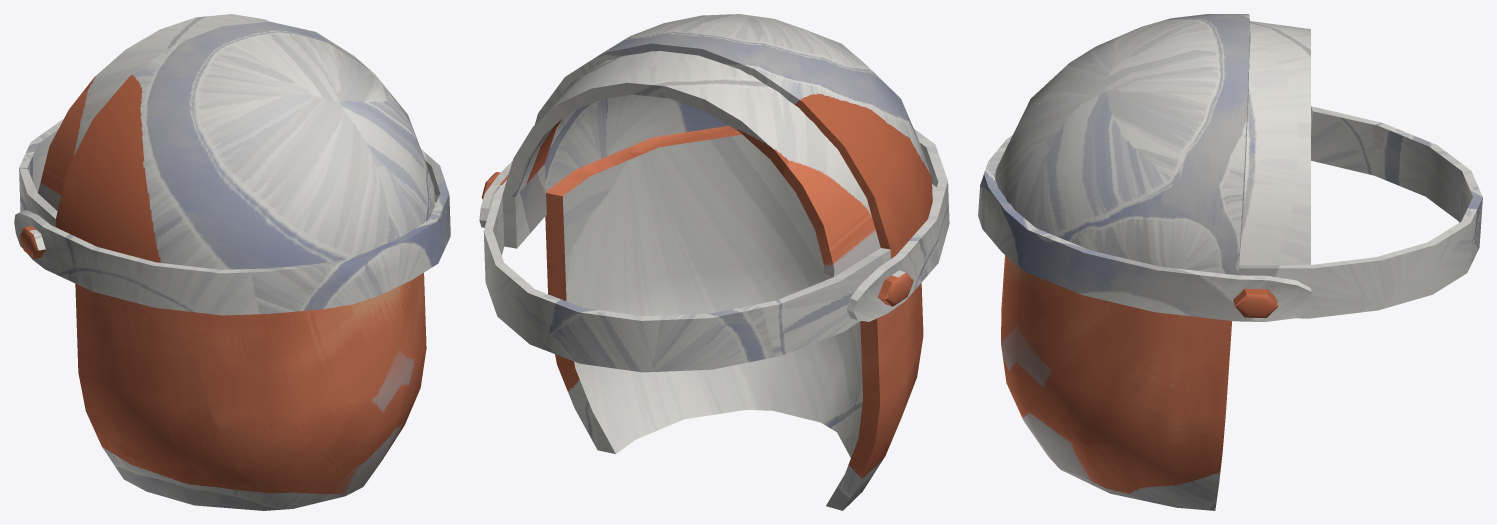
Rendered from Skin_operateur.fbx.
3 views of the same model, side by side, from view 1: azimuth 30°, elevation 25°; view 2: azimuth 150°, elevation 25°; view 3: azimuth 270°, elevation 25° (orthographic). The views are drawn at different scales.
Parts seen in each view (by area): view 1: skin_opérateur; view 2: skin_opérateur; view 3: skin_opérateur.
Part boxes in pixels (x1,y1,x2,y2): skin_opérateur: [14, 14, 450, 510]; skin_opérateur: [479, 14, 949, 510]; skin_opérateur: [978, 14, 1482, 510].
Bounding box in the file's own units: 92.19 × 93.88 × 102.
